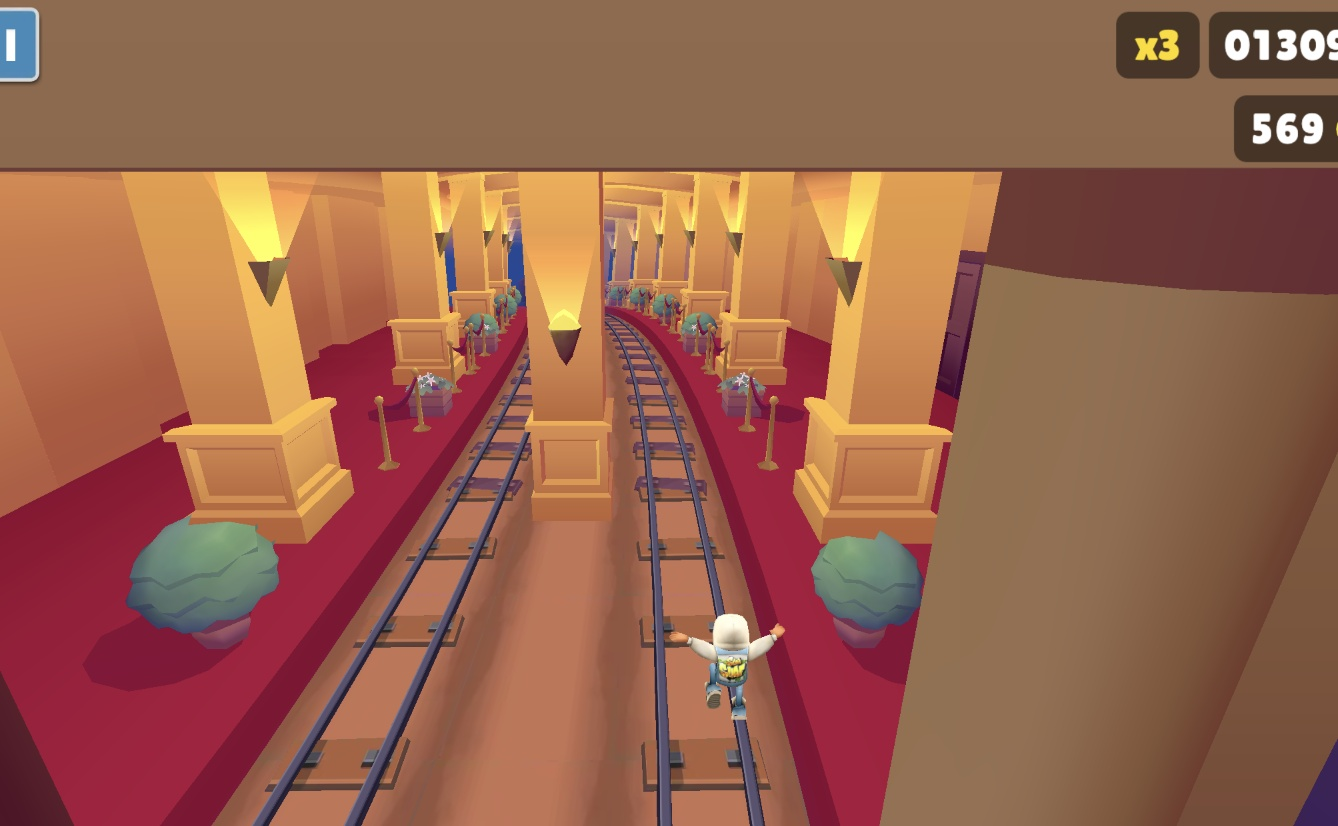pillar: (524, 170, 622, 514)
